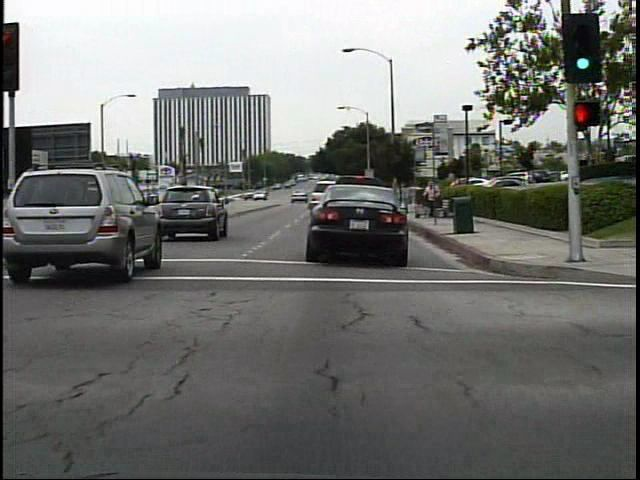person: (421, 178, 442, 222)
